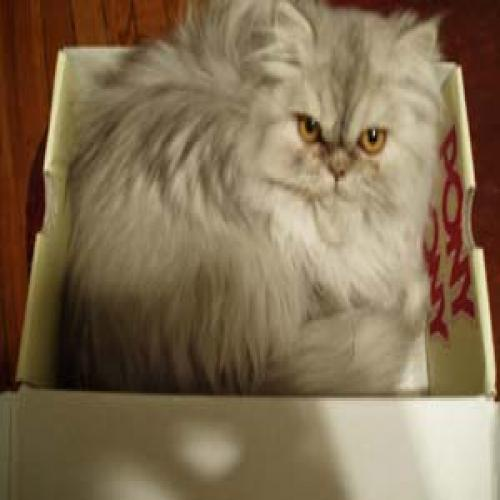persian: (222, 2, 437, 256)
